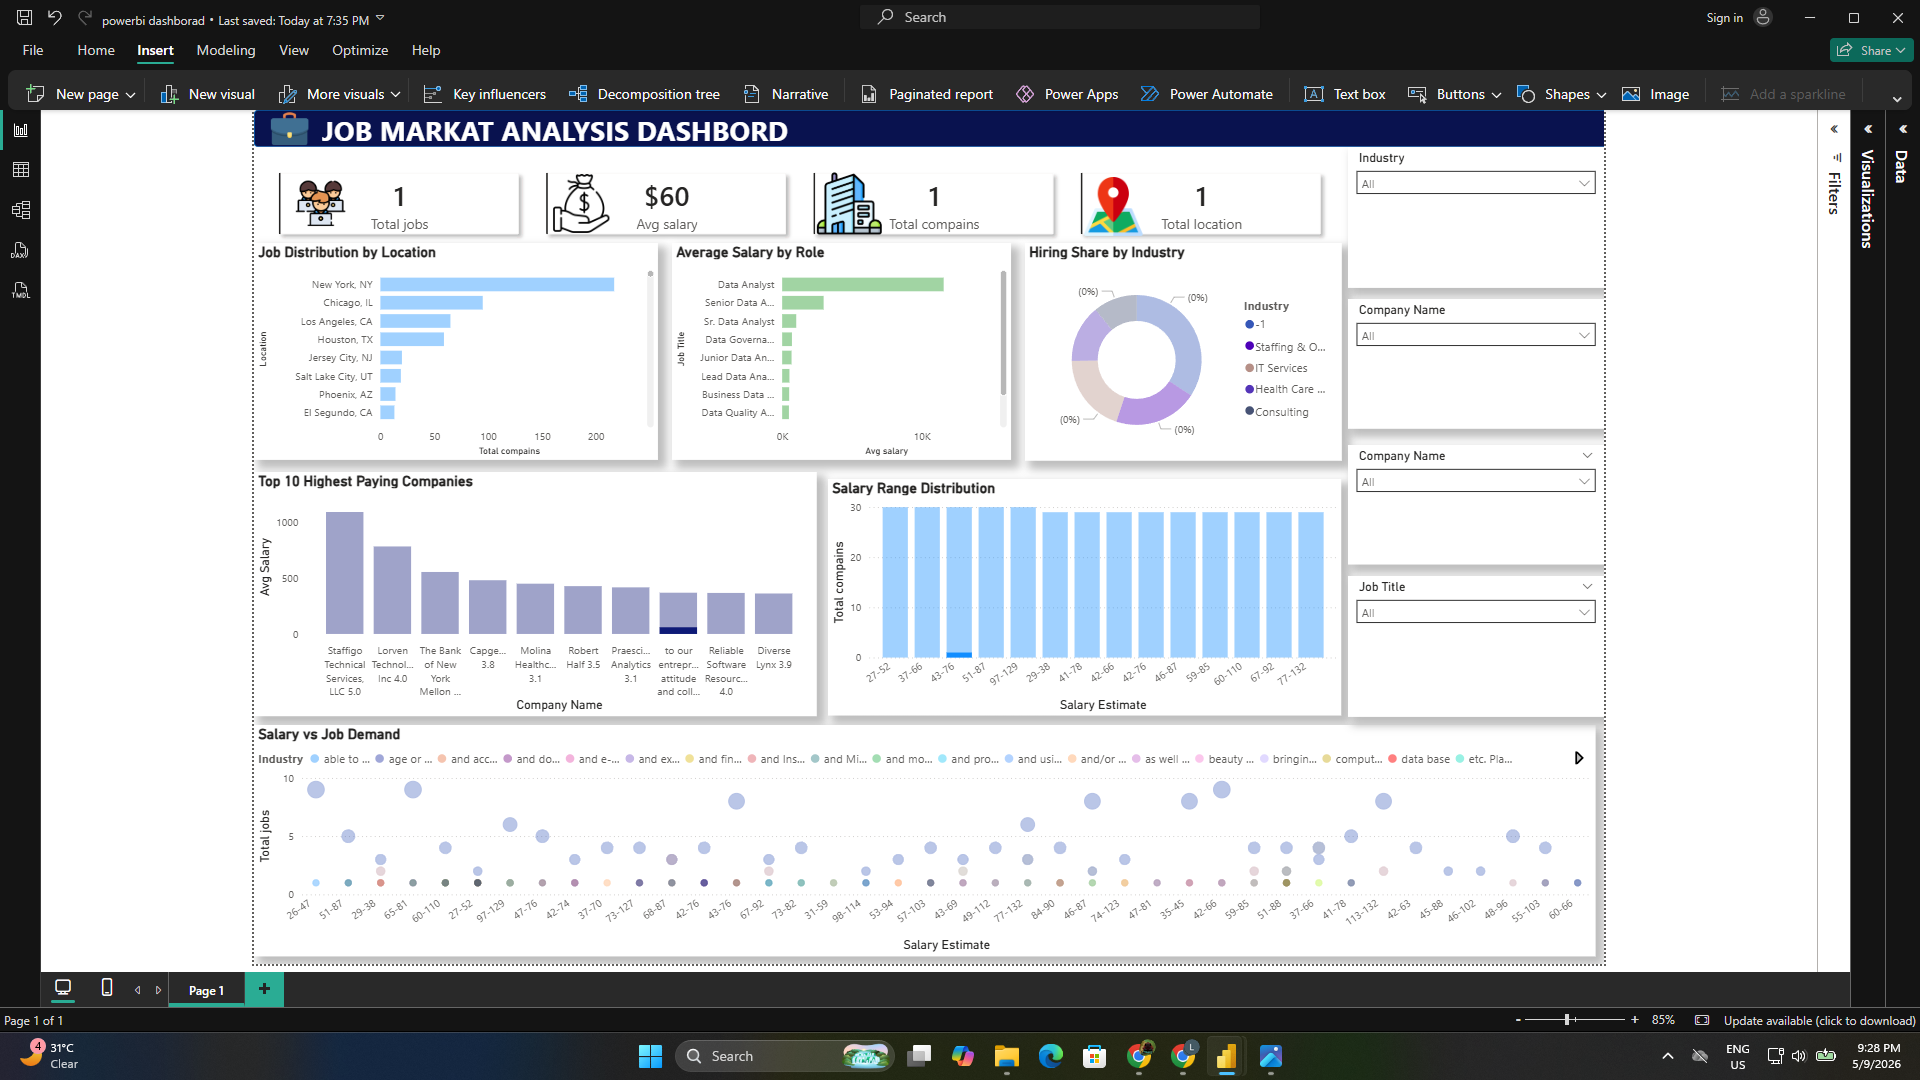

This screenshot's page, from the dashboard's own definition file:
{"tool":"powerbi","page":{"name":"Page 1","canvas":[1580,1000],"ordinal":0},"visuals":[{"type":"shape","box":[0,0,1680,43.4],"z":0},{"type":"image","box":[19,0,46.2,44.4],"z":1000},{"type":"cardVisual","fields":{"Data":["job market analysis.total jobs","job market analysis.avg salary","job market analysis.total compains","job market analysis.total LOCATIONS"]},"box":[0,44.4,1280.4,130.6],"z":2000},{"type":"image","box":[33.6,80.7,88,57.1],"z":3000},{"type":"image","box":[344.6,75.3,78,68.9],"z":4000},{"type":"image","box":[658.3,71.6,78,76.2],"z":5000},{"type":"image","box":[970.3,78.9,71.6,68.9],"z":6000},{"type":"clusteredBarChart","title":"Job Distribution by Location","fields":{"Category":["job market analysis.Location"],"Y":["job market analysis.Total compains"]},"box":[0,156,473.4,253.9],"z":7000},{"type":"clusteredBarChart","title":"Average Salary by Role","fields":{"Category":["job market analysis.Job Title"],"Y":["Sum(job market analysis.Salary Avg)"]},"box":[489.7,156,397.2,253.9],"z":8000},{"type":"donutChart","title":"Hiring Share by Industry","fields":{"Category":["job market analysis.Industry"],"Y":["job market analysis.Total jobs"]},"box":[902.6,155.6,370.6,254.8],"z":9000},{"type":"clusteredColumnChart","title":"Top 10 Highest Paying Companies","fields":{"Category":["job market analysis.Company Name"],"Y":["Sum(job market analysis.Salary Avg)"]},"box":[0,423.9,658.6,285.6],"z":10000},{"type":"columnChart","title":"Salary Range Distribution","fields":{"Category":["job market analysis.Salary Estimate"],"Y":["job market analysis.Total compains"]},"box":[672.5,432,600.8,277.1],"z":11000},{"type":"scatterChart","title":"Salary vs Job Demand","fields":{"X":["job market analysis.Salary Estimate"],"Size":["job market analysis.Total jobs"],"Series":["job market analysis.Industry"],"Y":["job market analysis.Total jobs"]},"box":[0,720.4,1570.5,270.8],"z":12000},{"type":"slicer","fields":{"Values":["job market analysis.Industry"]},"box":[1280.9,42.8,299.7,165],"z":13000},{"type":"slicer","fields":{"Values":["job market analysis.Company Name"]},"box":[1280.9,221.7,299.7,152.4],"z":14000},{"type":"slicer","fields":{"Values":["job market analysis.Company Name"]},"box":[1280.9,391.7,299.7,139.8],"z":15000},{"type":"slicer","fields":{"Values":["job market analysis.Job Title"]},"box":[1280.9,545.3,299.7,165],"z":16000}]}

Visuals, with their boxes on the page's 1580x1000 design canvas (x1, y1, x2, y2). These are canvas units, not pixel positions in the 1920x1080 screenshot, which may show the page scaled, cropped or inside an application window:
shape: [0, 0, 1680, 43]
image: [19, 0, 65, 44]
cardVisual - job market analysis.total jobs x job market analysis.avg salary: [0, 44, 1280, 175]
image: [34, 81, 122, 138]
image: [345, 75, 423, 144]
image: [658, 72, 736, 148]
image: [970, 79, 1042, 148]
"Job Distribution by Location" clusteredBarChart: [0, 156, 473, 410]
"Average Salary by Role" clusteredBarChart: [490, 156, 887, 410]
"Hiring Share by Industry" donutChart: [903, 156, 1273, 410]
"Top 10 Highest Paying Companies" clusteredColumnChart: [0, 424, 659, 710]
"Salary Range Distribution" columnChart: [672, 432, 1273, 709]
"Salary vs Job Demand" scatterChart: [0, 720, 1570, 991]
slicer - job market analysis.Industry: [1281, 43, 1581, 208]
slicer - job market analysis.Company Name: [1281, 222, 1581, 374]
slicer - job market analysis.Company Name: [1281, 392, 1581, 532]
slicer - job market analysis.Job Title: [1281, 545, 1581, 710]
